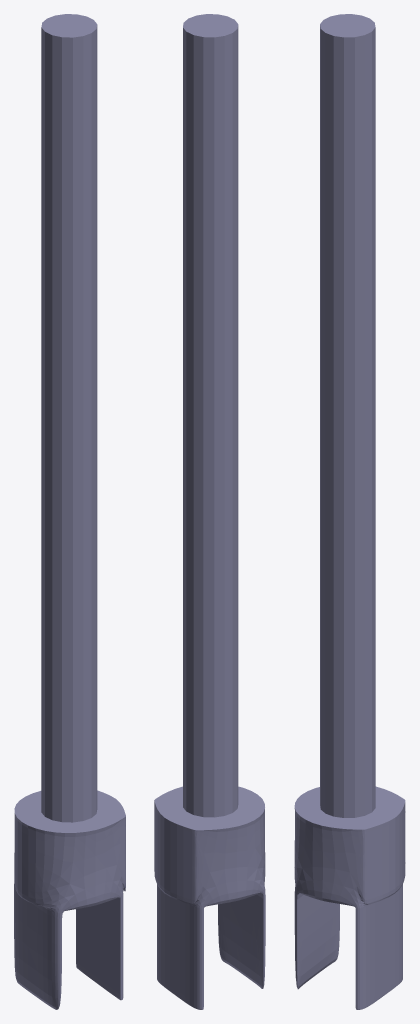
The model's file is rod_L_LowPoly.obj.
3 renders of one model, left to right at view 1: azimuth 30°, elevation 25°; view 2: azimuth 210°, elevation 25°; view 3: azimuth 330°, elevation 25°, orthographic.
Parts seen in each view (by area): view 1: rod_L_LowPoly\Facets; view 2: rod_L_LowPoly\Facets; view 3: rod_L_LowPoly\Facets.
Part boxes in pixels (x1,y1,x2,y2): rod_L_LowPoly\Facets: (14,14,125,1009); rod_L_LowPoly\Facets: (154,14,265,1009); rod_L_LowPoly\Facets: (294,14,405,1009).
Size of the model in its own units: 0.1193 by 1.17 by 0.1196.
